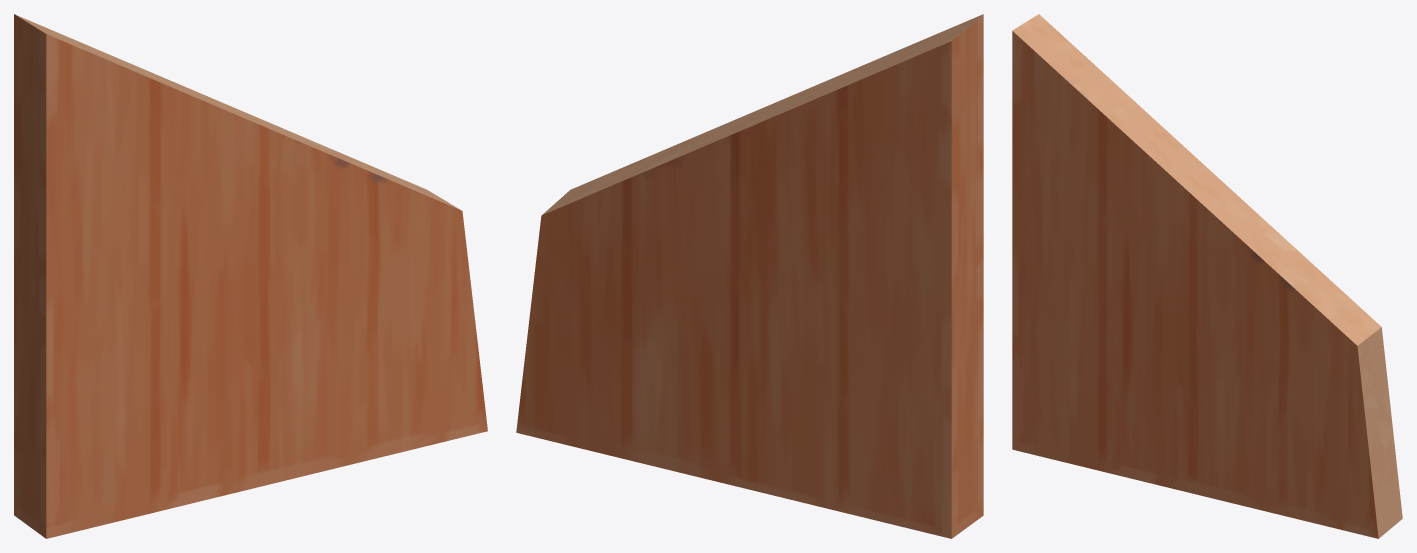
The model's file is door2_wood_s00.fbx.
3 views of the same model, side by side, from view 1: azimuth 30°, elevation 25°; view 2: azimuth 150°, elevation 25°; view 3: azimuth 330°, elevation 25° (orthographic). The views are drawn at different scales.
Parts seen in each view (by area): view 1: door2_wood_s00; view 2: door2_wood_s00; view 3: door2_wood_s00.
Boxes of the visible parts, x1=… form: door2_wood_s00: x1=14, y1=14, x2=487, y2=538; door2_wood_s00: x1=516, y1=14, x2=983, y2=538; door2_wood_s00: x1=1012, y1=14, x2=1402, y2=538.
Bounding box in the file's own units: 2.21 × 2.41 × 0.28.
